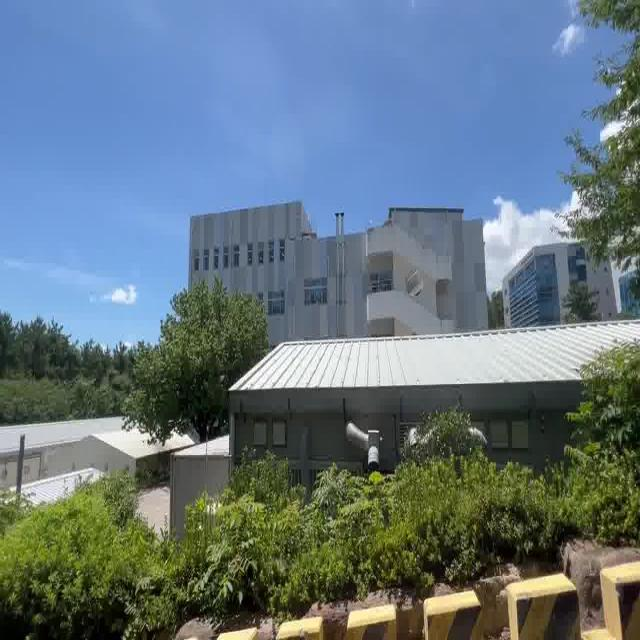building: (194, 196, 494, 338)
